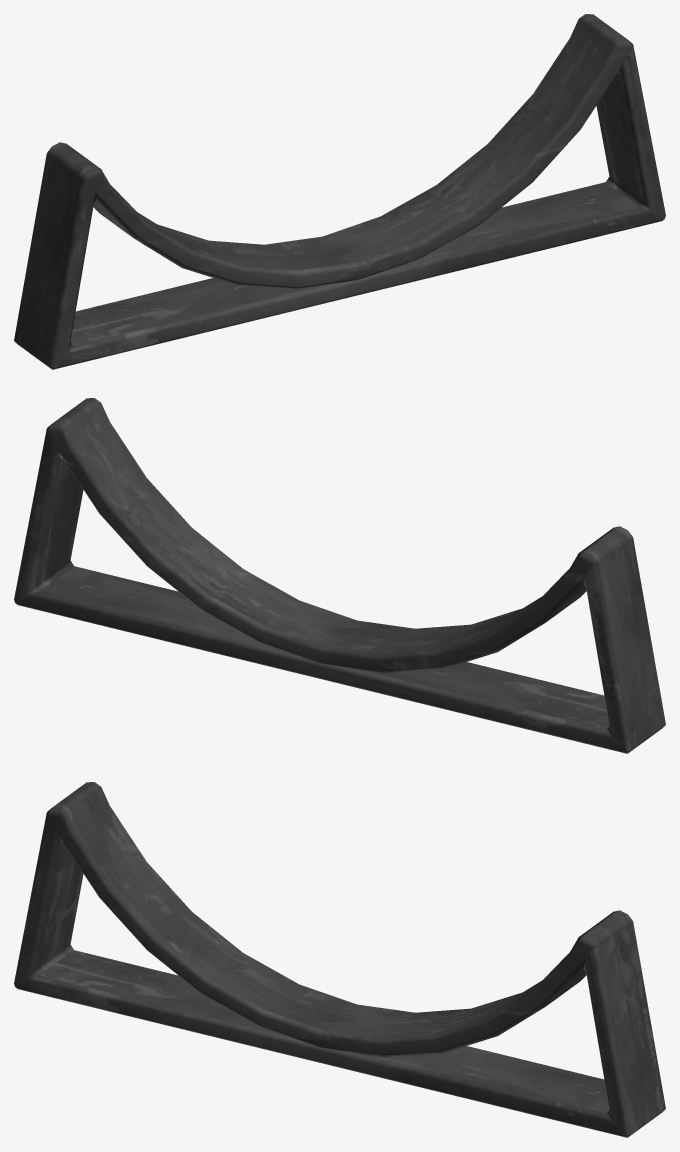
Rendered from barrelholder_001.fbx.
3 renders of one model, top to bottom at view 1: azimuth 30°, elevation 25°; view 2: azimuth 150°, elevation 25°; view 3: azimuth 330°, elevation 25°, orthographic.
Parts seen in each view (by area): view 1: barrelholder_001; view 2: barrelholder_001; view 3: barrelholder_001.
Boxes of the visible parts, bbox=[...] form: barrelholder_001: bbox=[14, 14, 665, 369]; barrelholder_001: bbox=[14, 398, 665, 753]; barrelholder_001: bbox=[14, 782, 665, 1137].
Bounding box in the file's own units: 2489 × 279 × 739.
